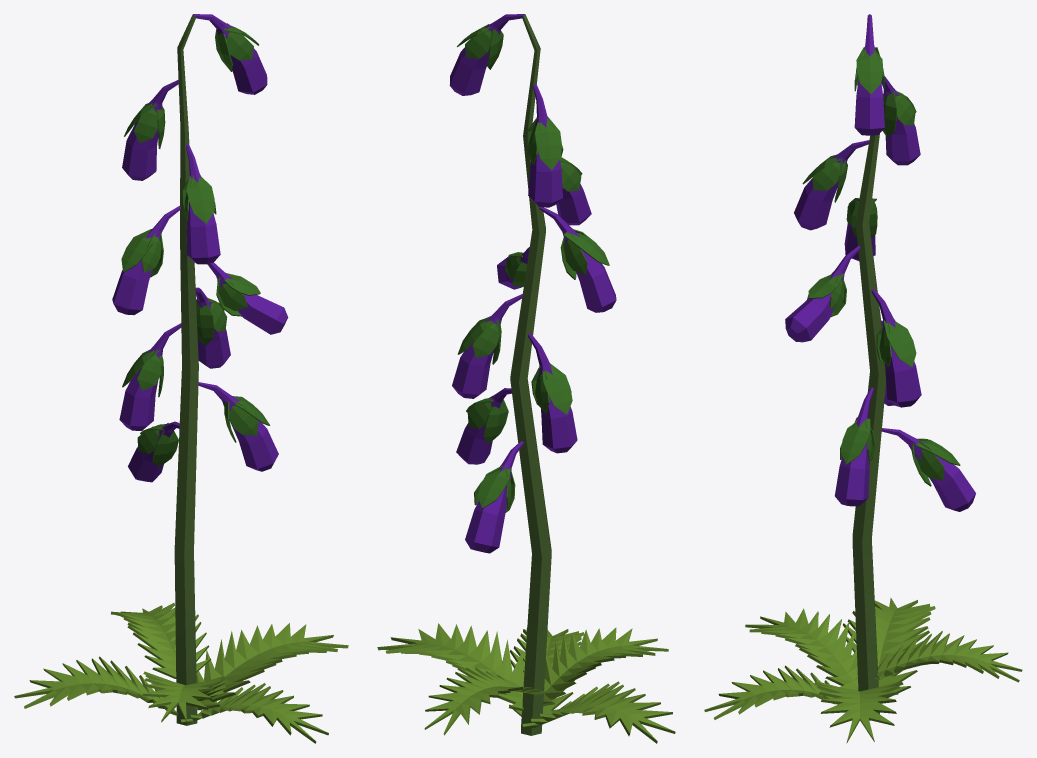
The model's file is Eisenhut_2.fbx.
3 views of the same model, side by side, from view 1: azimuth 30°, elevation 25°; view 2: azimuth 150°, elevation 25°; view 3: azimuth 270°, elevation 25° (orthographic).
Visible parts, largest first — view 1: Eisenhut_2; view 2: Eisenhut_2; view 3: Eisenhut_2.
Boxes of the visible parts, x1,y1,x2,y2 form: Eisenhut_2: (14, 14, 348, 743); Eisenhut_2: (377, 14, 675, 743); Eisenhut_2: (704, 14, 1022, 743).
Size of the model in its own units: 72.78 by 162 by 66.33.
